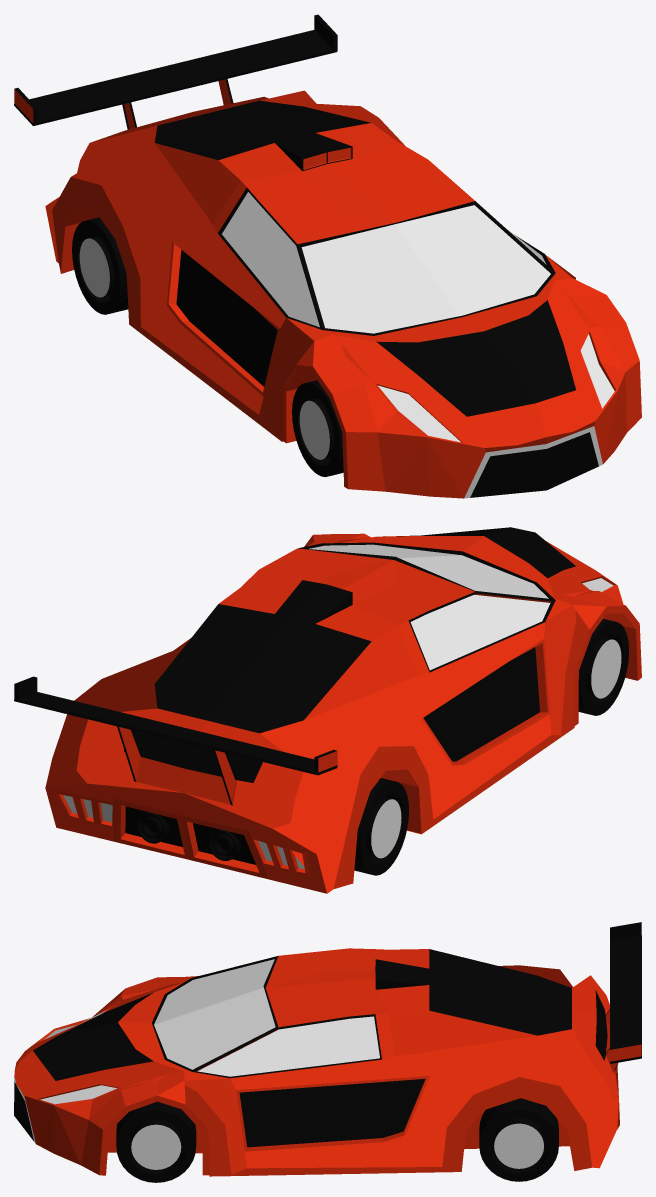
File: Wypasiona fura.fbx
3 views of the same model, one above another, from view 1: azimuth 30°, elevation 25°; view 2: azimuth 150°, elevation 25°; view 3: azimuth 270°, elevation 25° (orthographic). The views are drawn at different scales.
Visible parts, largest first — view 1: Plane; view 2: Plane; view 3: Plane.
Part boxes in pixels (left/top/right/bottom): Plane: left=14, top=14, right=641, bottom=498; Plane: left=14, top=527, right=641, bottom=893; Plane: left=14, top=922, right=641, bottom=1182.
Bounding box in the file's own units: 134 × 79.86 × 290.
